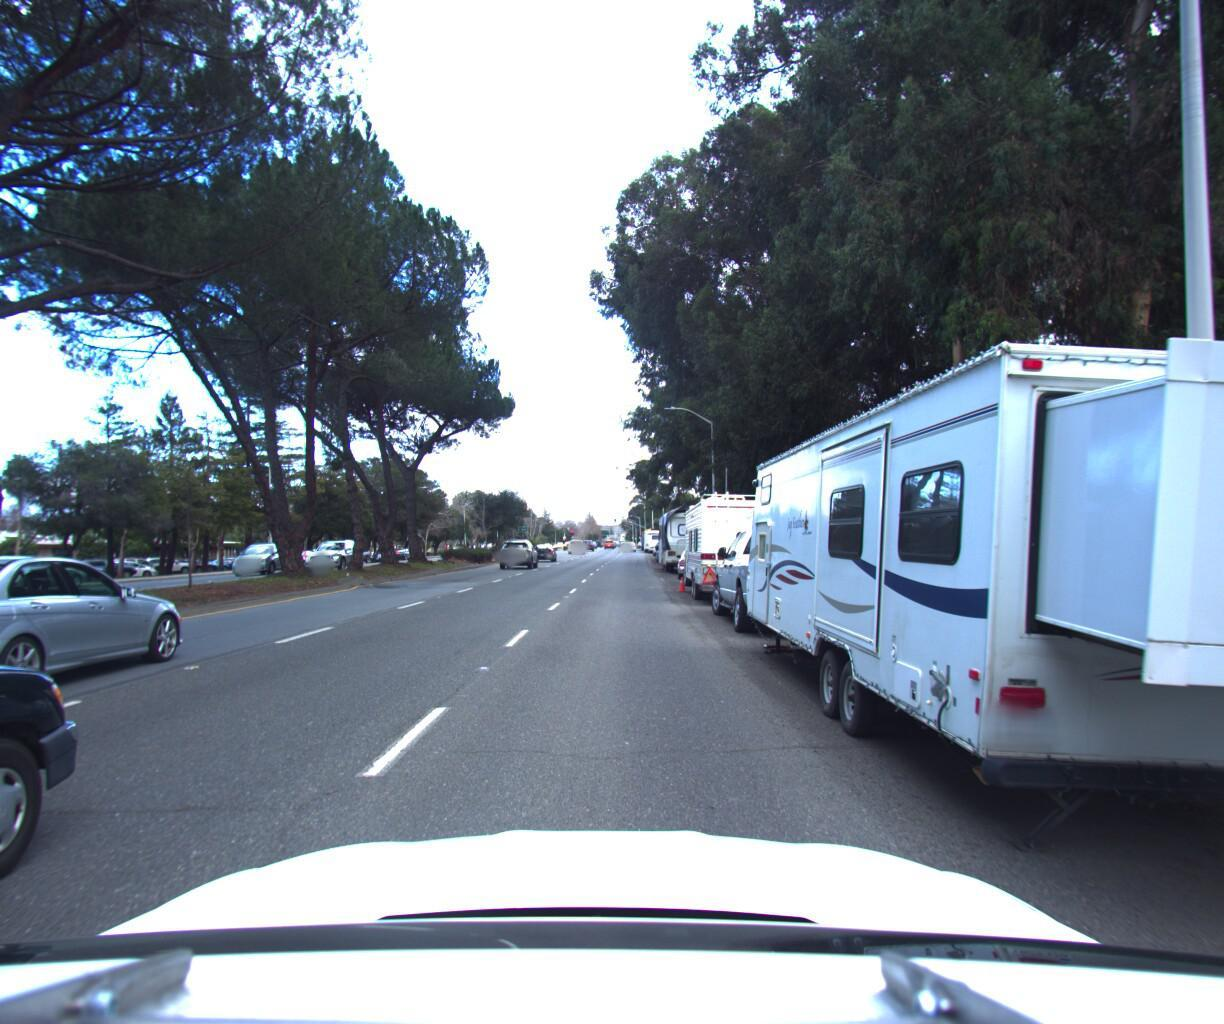car: (0, 535, 200, 718), (708, 514, 878, 640), (0, 548, 99, 591), (228, 532, 304, 569), (304, 530, 371, 564), (675, 538, 720, 574), (499, 533, 541, 564), (530, 533, 558, 555)
other_vehicle: (731, 144, 1224, 1024), (676, 478, 813, 607), (656, 495, 720, 570)
